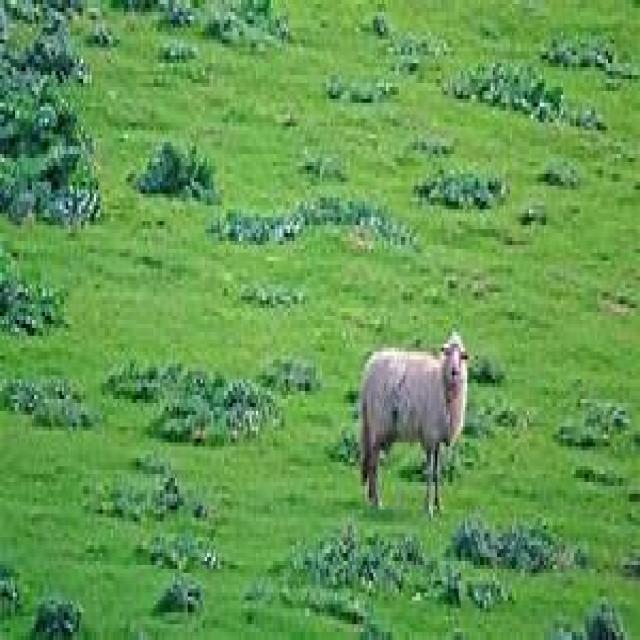animal: (356, 328, 469, 517)
